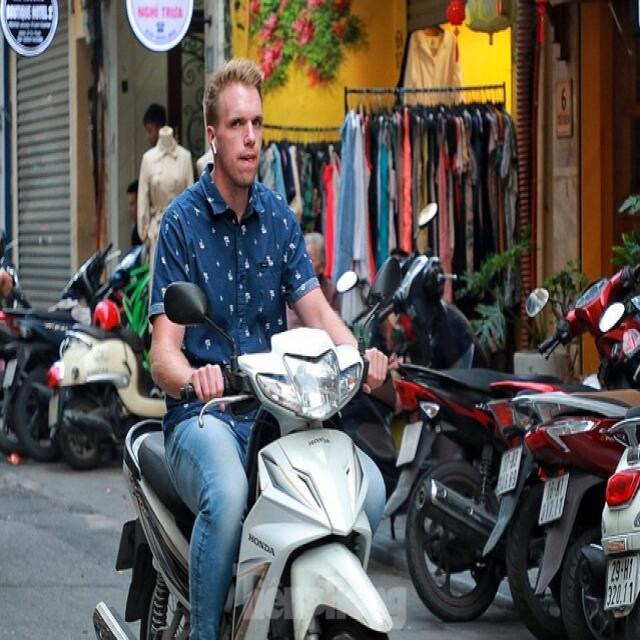no_helmet: (195, 50, 279, 204)
